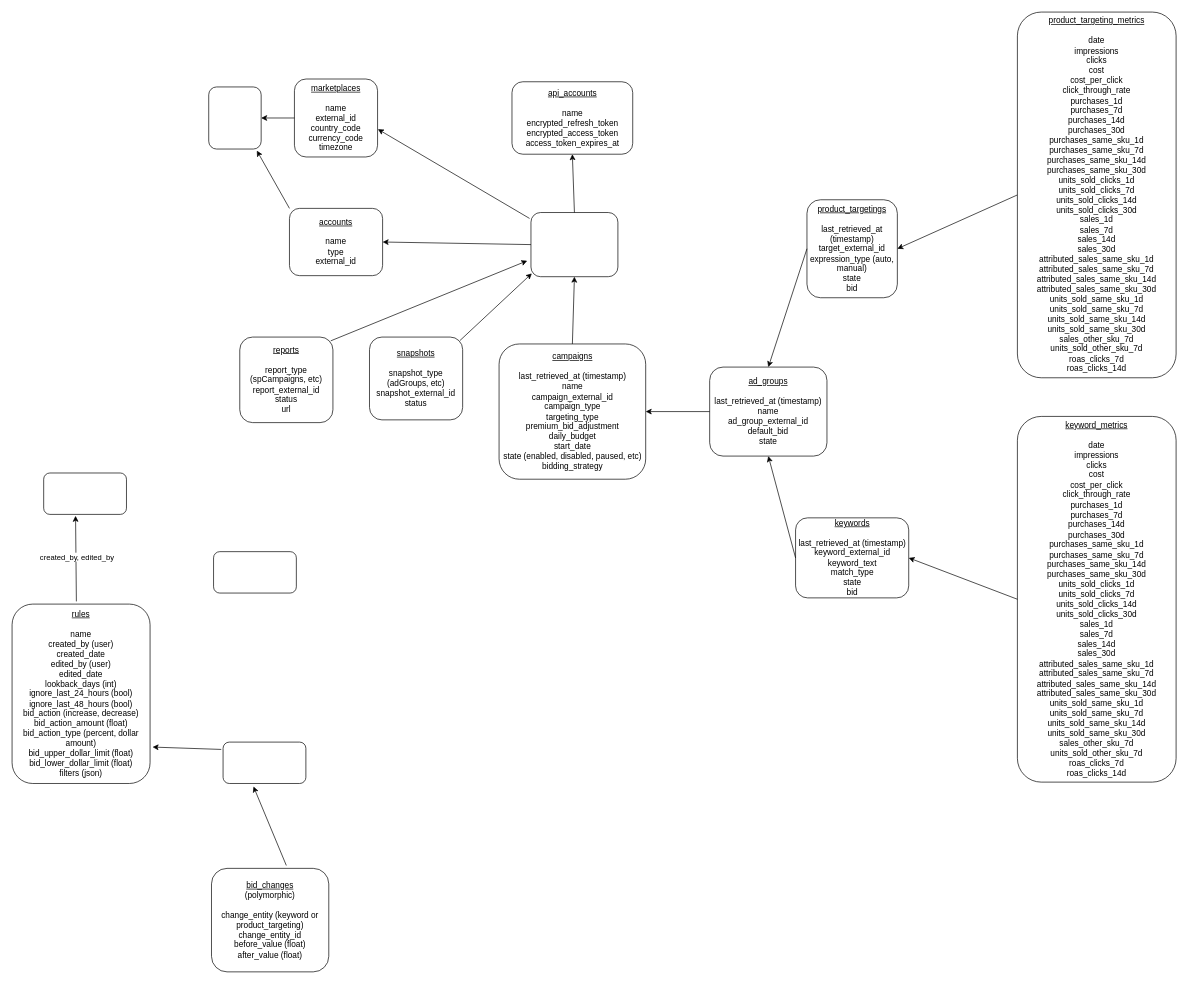
This 1188x984 diagram has some shape labels left out. The shapes that lost their labels are listed below. From the top down, each one's centre as x and y in pixels, then its label:
At pixel 234 117: "regions name code".
At pixel 574 244: "profiles profile_external_id inactive_at is_actively_managed".
At pixel 84 493: "users".
At pixel 254 572: "rule_types".
At pixel 264 762: "rule_executions start_timestamp".
